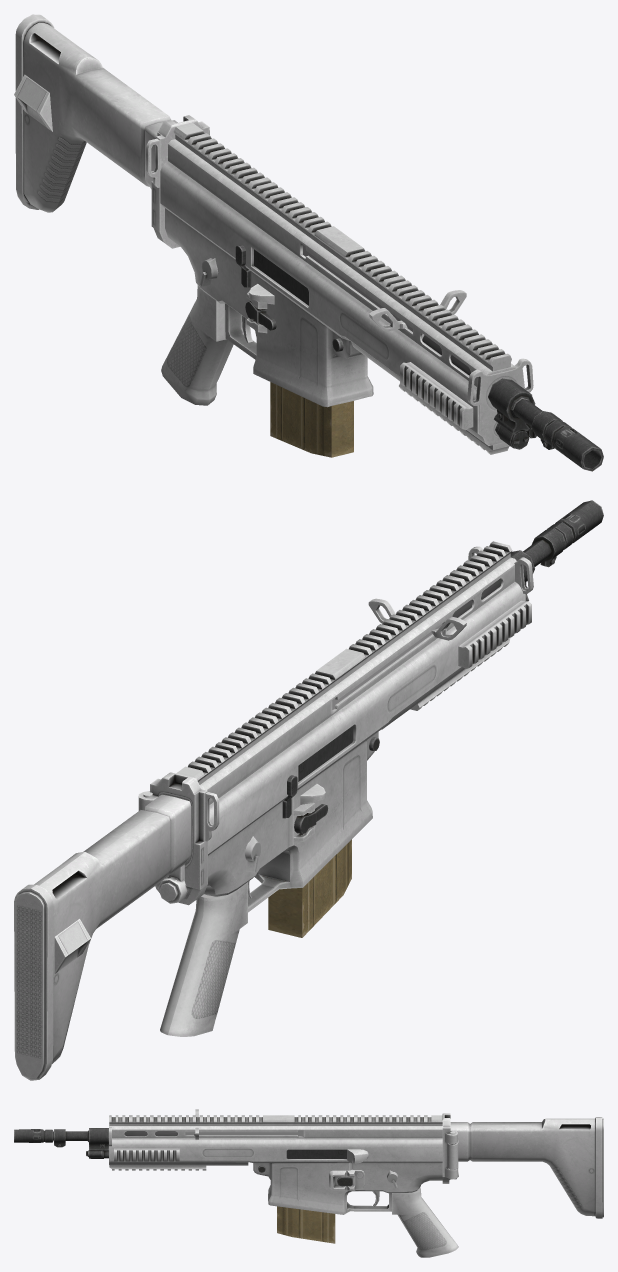
Rendered from HeavyRifle.fbx.
3 renders of one model, top to bottom at view 1: azimuth 30°, elevation 25°; view 2: azimuth 150°, elevation 25°; view 3: azimuth 270°, elevation 25°, orthographic. The views are drawn at different scales.
Parts seen in each view (by area): view 1: RifleBody0, RifleBody2, RifleBody1, Magazine0; view 2: RifleBody0, RifleBody2, RifleBody1, Magazine0; view 3: RifleBody0, RifleBody2, RifleBody1, Magazine0.
Part boxes in pixels (<box>): RifleBody0: <box>160,123,561,454</box>; RifleBody2: <box>14,14,209,248</box>; RifleBody1: <box>161,132,603,471</box>; Magazine0: <box>270,382,353,457</box>; RifleBody0: <box>160,528,565,1034</box>; RifleBody2: <box>14,772,219,1080</box>; RifleBody1: <box>168,500,603,1036</box>; Magazine0: <box>268,839,351,937</box>; RifleBody0: <box>54,1109,458,1257</box>; RifleBody2: <box>442,1113,603,1218</box>; RifleBody1: <box>14,1122,458,1246</box>; Magazine0: <box>277,1206,335,1243</box>.
Bounding box in the file's own units: 0.0767 × 0.2061 × 0.7896.
Materials: 3 (3 with a texture image).
